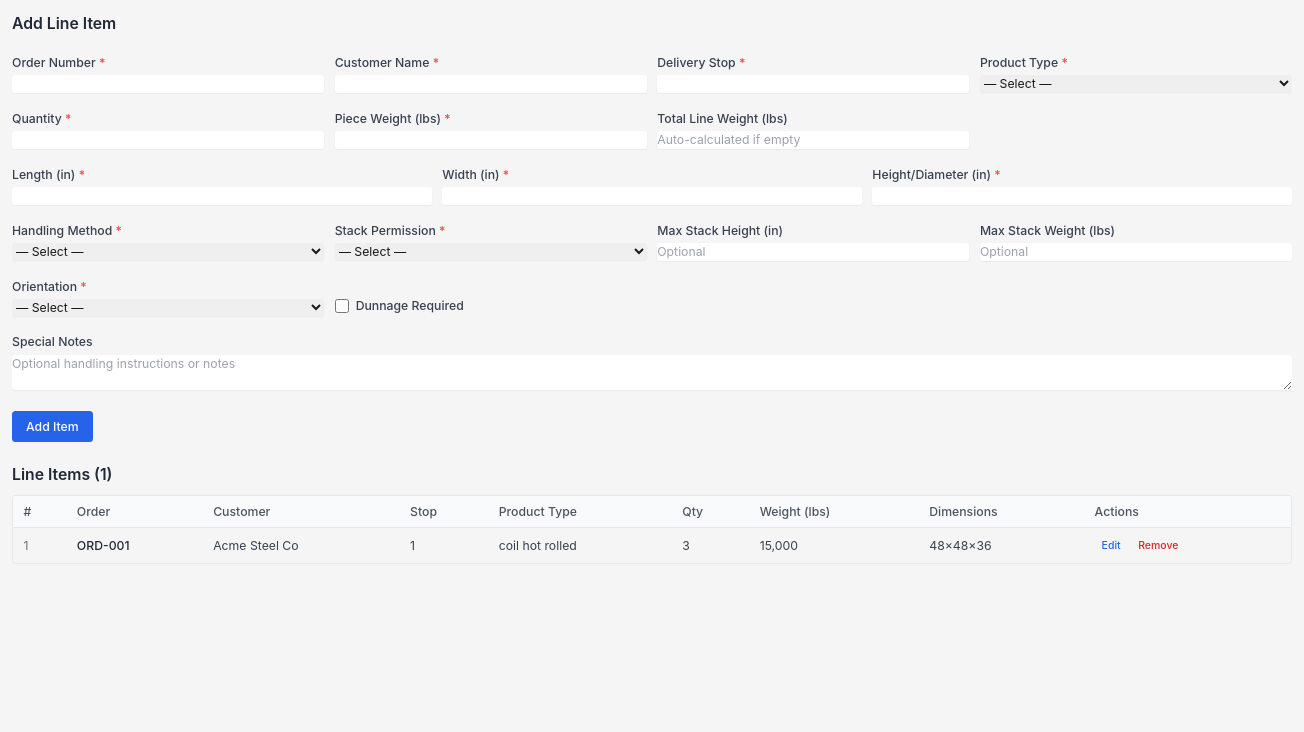
ManualEntryForm: Editing Items › loads item data into form when Edit is clicked
This screenshot has width=1304, height=732.
Step 1. Click the button with aria-label "Edit item ORD-001" → (1111, 546), box [1095,535,1128,556]
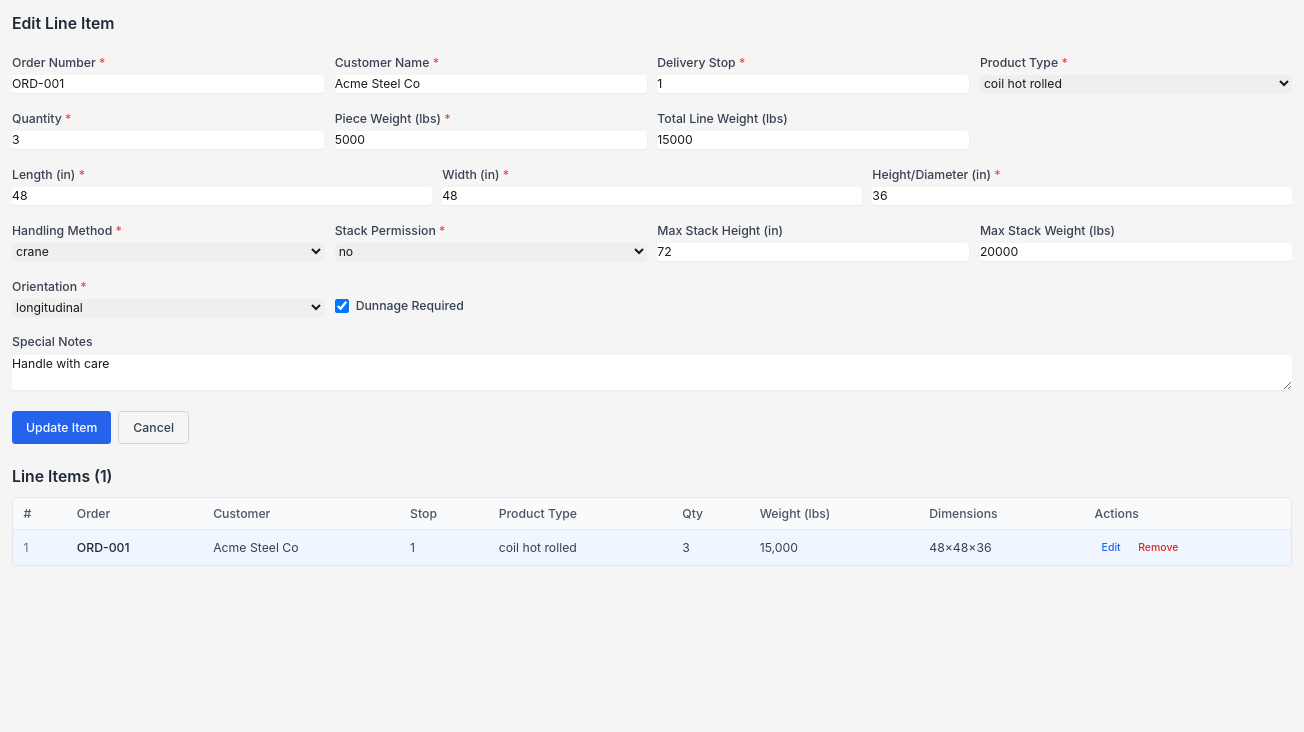
Expected: the button "Update Item" is shown, [12,410,111,444]
Expected: the button "Cancel" is shown, [118,410,189,444]
Expected: the field labelled "Order Number *" holds "ORD-001", [12,75,324,92]
